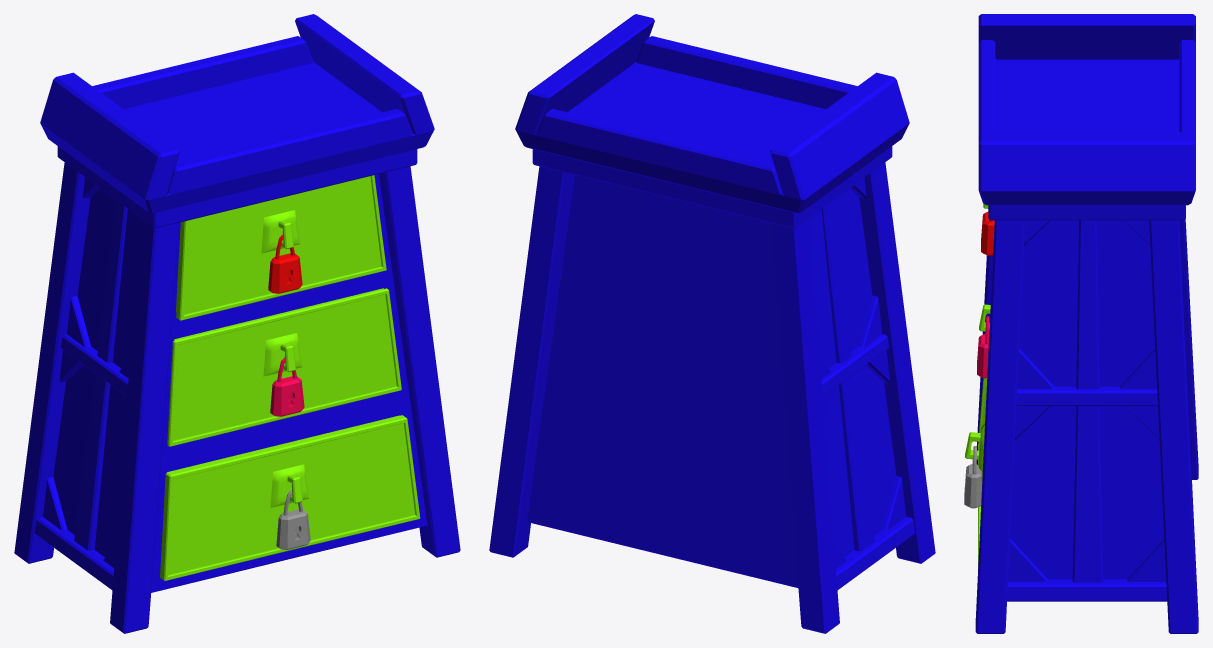
File: MSG_Lr_shelf_2.FBX
3 renders of one model, left to right at view 1: azimuth 30°, elevation 25°; view 2: azimuth 150°, elevation 25°; view 3: azimuth 270°, elevation 25°, orthographic.
Visible parts, largest first — view 1: MSG_Lr_shelf_005, MSG_Lr_shelf_010, MSG_Lr_shelf_009, MSG_Lr_shelf_2, MSG_Lr_lokerPurple_3, MSG_Lr_lokerBrown_3, MSG_Lr_lokerGreen_3; view 2: MSG_Lr_shelf_005; view 3: MSG_Lr_shelf_005, MSG_Lr_shelf_010, MSG_Lr_lokerBrown_3, MSG_Lr_lokerGreen_3, MSG_Lr_lokerPurple_3.
Boxes of the visible parts, x1,y1,x2,y2 form: MSG_Lr_shelf_005: (14, 14, 460, 633); MSG_Lr_shelf_010: (160, 415, 420, 580); MSG_Lr_shelf_009: (167, 288, 401, 446); MSG_Lr_shelf_2: (176, 175, 386, 320); MSG_Lr_lokerPurple_3: (270, 376, 304, 416); MSG_Lr_lokerBrown_3: (276, 509, 310, 549); MSG_Lr_lokerGreen_3: (268, 253, 302, 293); MSG_Lr_shelf_005: (489, 14, 935, 633); MSG_Lr_shelf_005: (975, 14, 1198, 633); MSG_Lr_shelf_010: (965, 378, 987, 568); MSG_Lr_lokerBrown_3: (964, 464, 981, 508); MSG_Lr_lokerGreen_3: (981, 212, 994, 255); MSG_Lr_lokerPurple_3: (977, 334, 988, 378).
Bounding box in the file's own units: 124 × 165 × 74.05.
